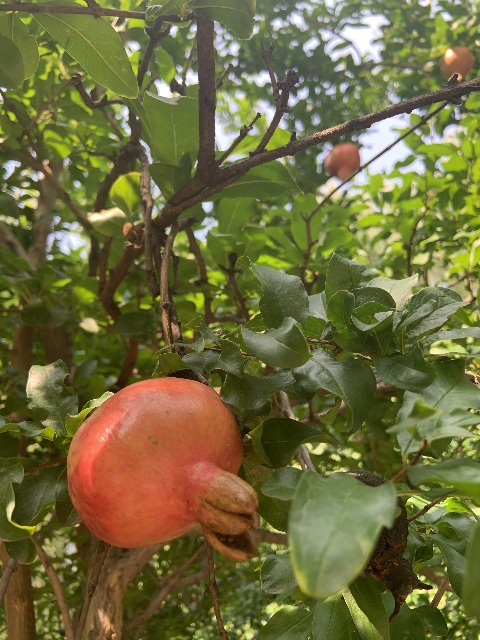ripe: (66, 376, 260, 562), (324, 143, 360, 180), (440, 46, 473, 80)
